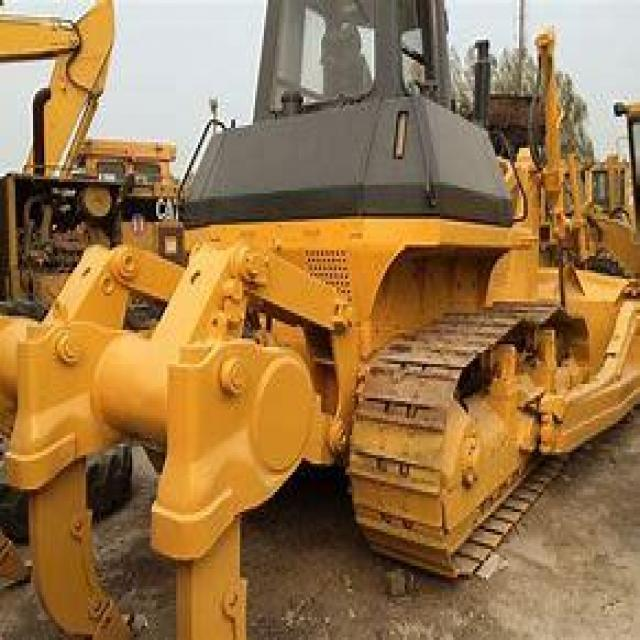Bulldozer: (9, 3, 638, 637)
